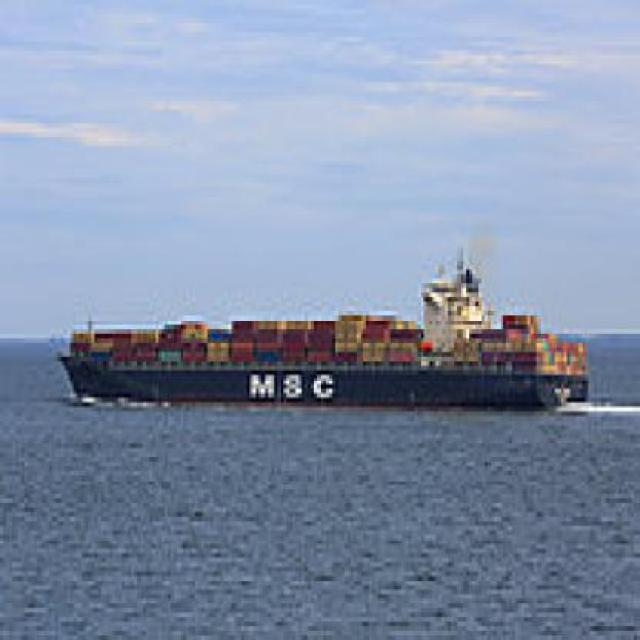container: (56, 188, 599, 426)
